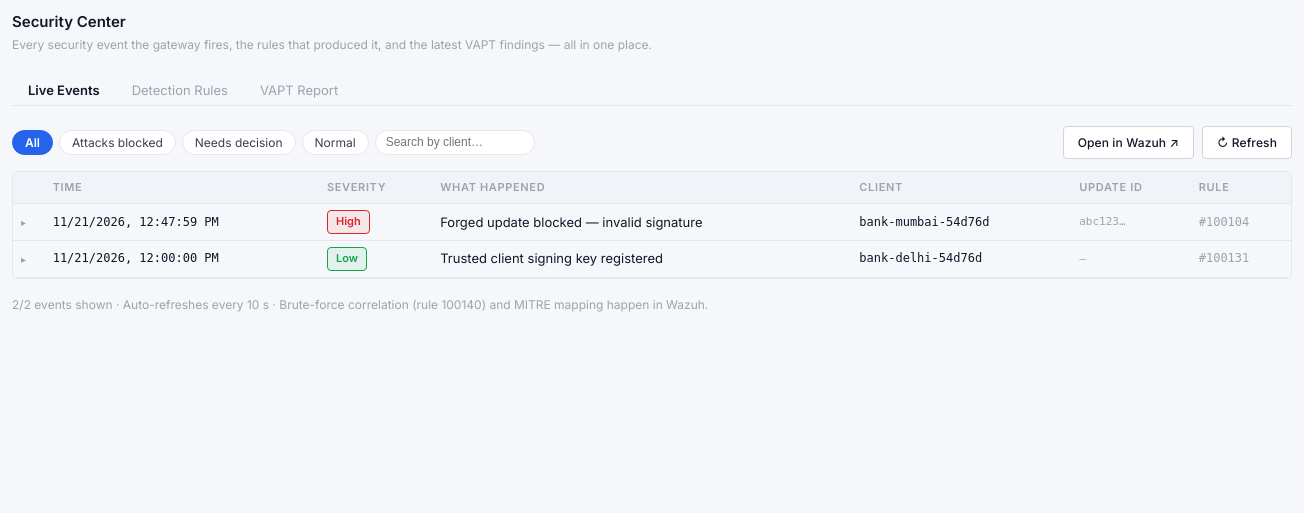
it: SecurityCenter — expandable rows › row expands on click and shows detail panel sections
Click the row that starts with "11/21/2026, 12:47:59 PM" at (652, 222), box [13,204,1291,241]
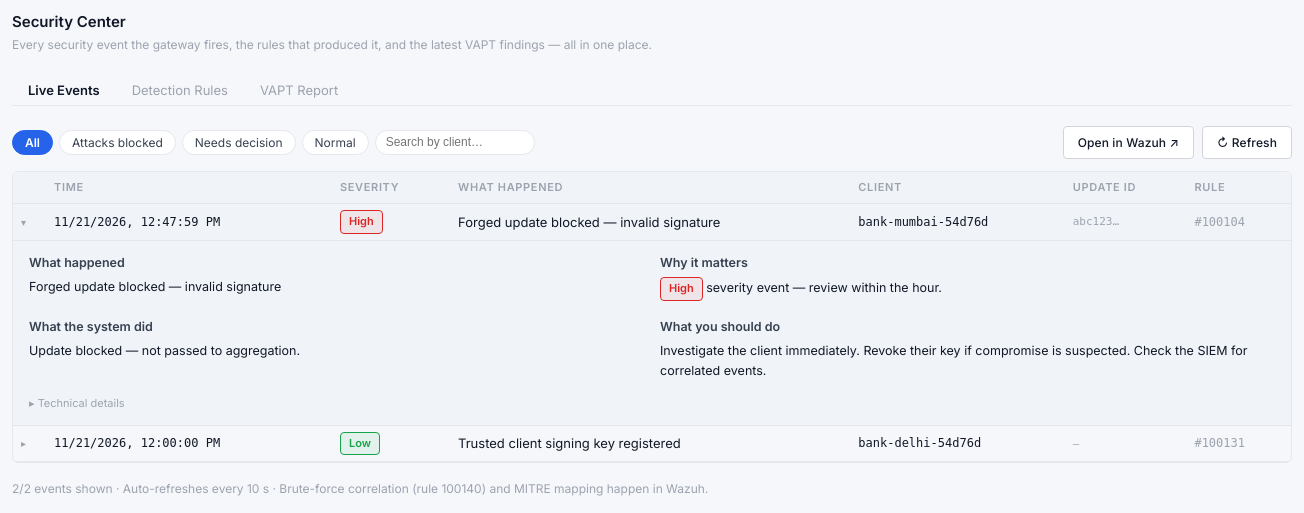
Check: the text "Why it matters" is shown, box [660,255,748,270]
Check: the text "What the system did" is shown, box [29,319,153,334]
Check: the text "What you should do" is shown, box [660,319,780,334]
